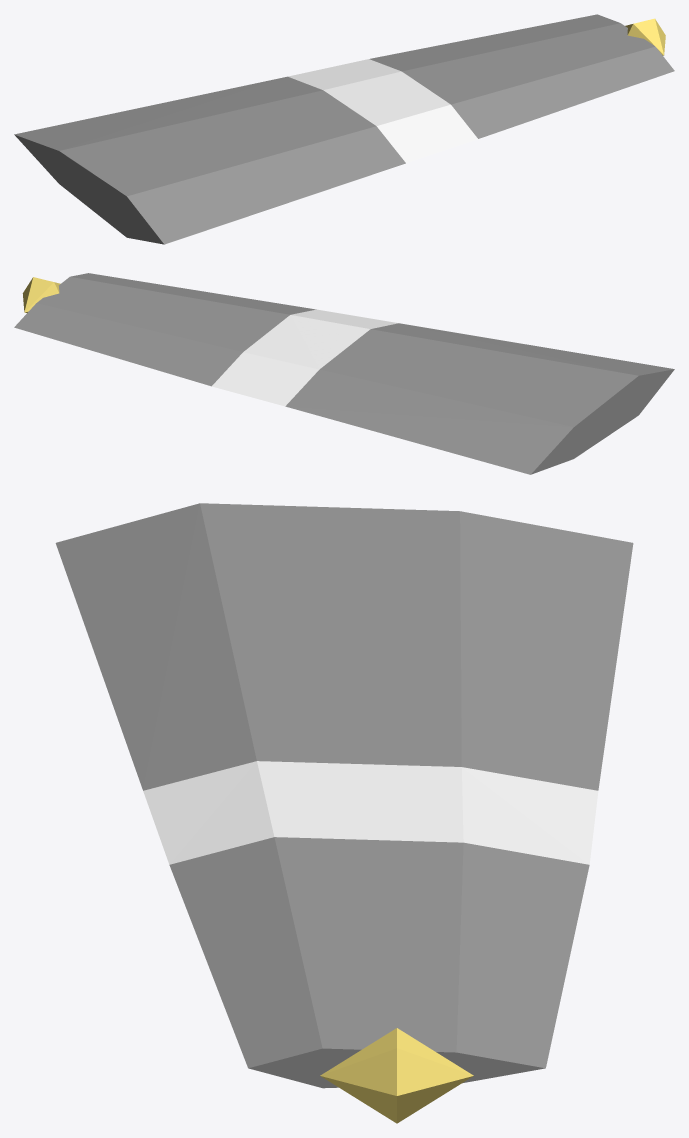
File: wing_ray.obj
3 renders of one model, top to bottom at view 1: azimuth 30°, elevation 25°; view 2: azimuth 150°, elevation 25°; view 3: azimuth 270°, elevation 25°, orthographic. The views are drawn at different scales.
Size of the model in its own units: 1.49 by 0.1 by 0.66.
